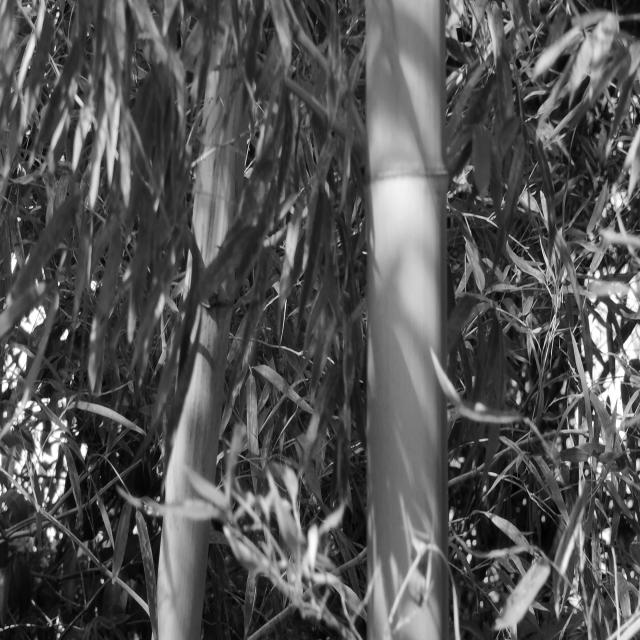Bamboo-shoots: (150, 73, 252, 640)
